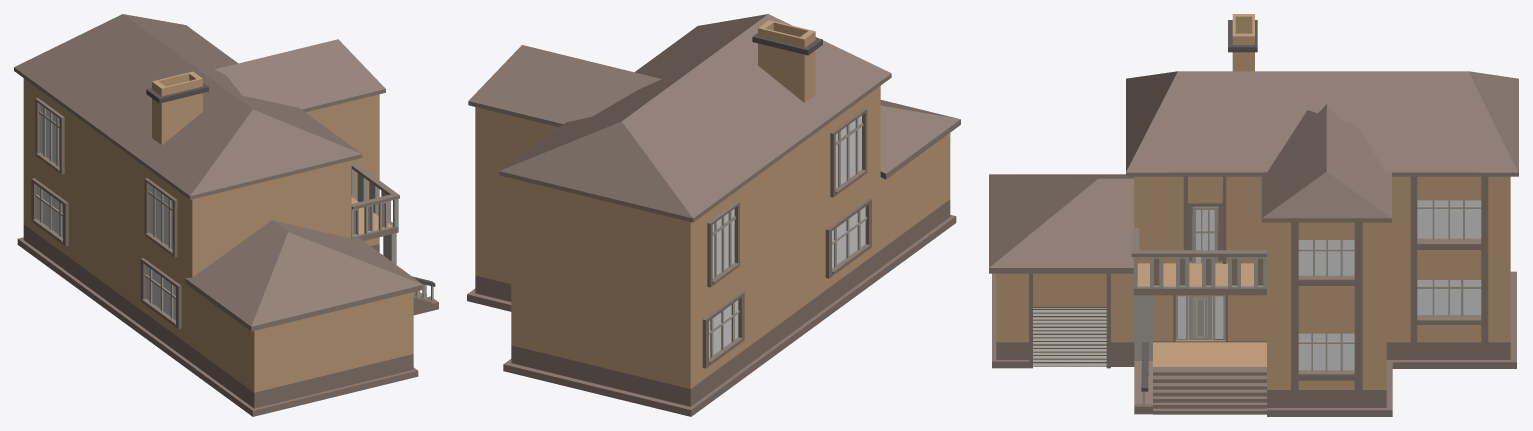
File: houseArkadia_1.fbx
3 renders of one model, left to right at view 1: azimuth 30°, elevation 25°; view 2: azimuth 150°, elevation 25°; view 3: azimuth 270°, elevation 25°, orthographic. The views are drawn at different scales.
Parts seen in each view (by area): view 1: Cube; view 2: Cube; view 3: Cube.
Boxes of the visible parts, bbox=[...] form: Cube: bbox=[14, 14, 438, 416]; Cube: bbox=[467, 14, 960, 416]; Cube: bbox=[989, 14, 1518, 416].
Size of the model in its own units: 1291 by 1175 by 2063.
